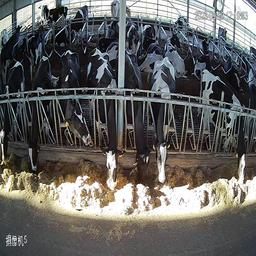cow: (198, 68, 247, 184), (107, 43, 147, 185), (87, 48, 119, 192), (148, 57, 176, 186), (59, 49, 91, 145), (27, 57, 50, 173), (2, 62, 23, 167), (163, 30, 185, 76), (140, 29, 162, 70), (68, 3, 90, 42), (191, 39, 212, 79), (42, 2, 67, 30), (126, 17, 140, 66), (107, 0, 135, 24), (171, 11, 187, 53), (223, 51, 238, 94), (30, 21, 45, 55), (216, 25, 229, 58), (144, 22, 159, 38)
